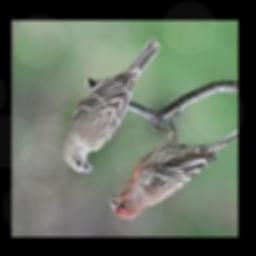Sparrow: (108, 116, 238, 220), (63, 36, 161, 173)
